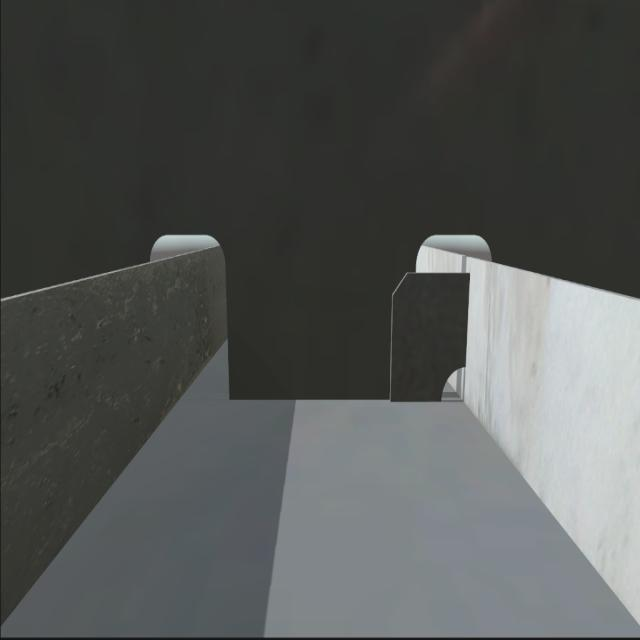fillet_hole: (440, 367, 466, 398)
fillet_yong_jeop_jang: (228, 386, 447, 411)
longi_yong_jeop_jang: (459, 263, 474, 377)
plate_CP03: (389, 269, 469, 402)
